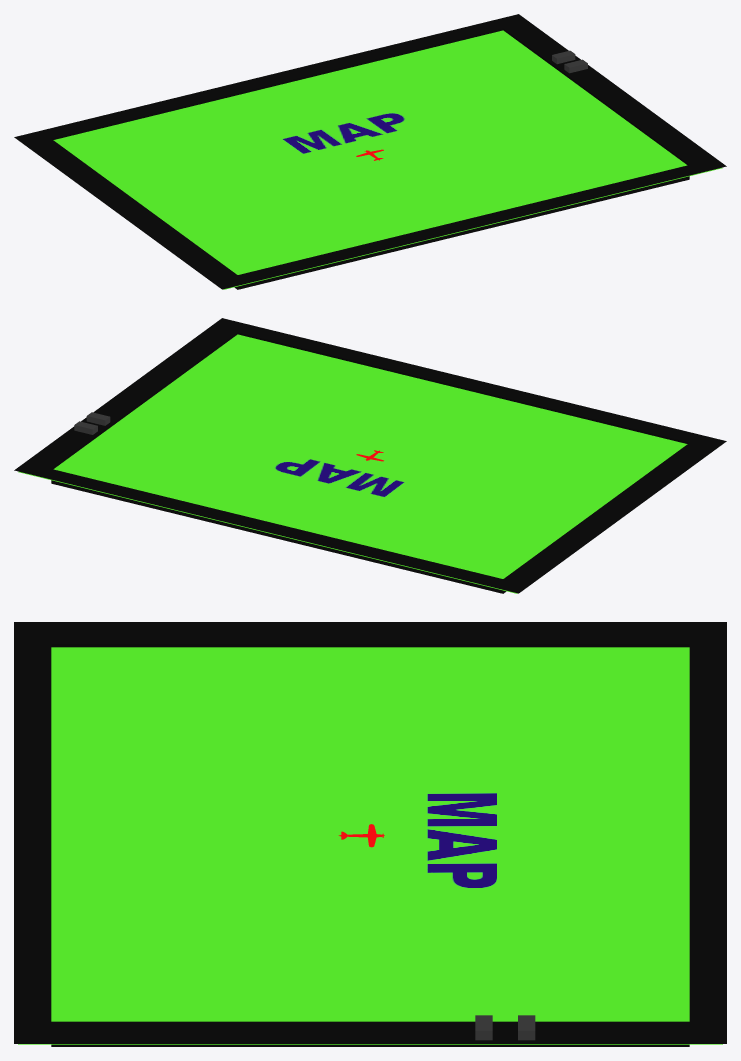
The model's file is display.glb.
3 renders of one model, top to bottom at view 1: azimuth 30°, elevation 25°; view 2: azimuth 150°, elevation 25°; view 3: azimuth 270°, elevation 25°, orthographic. The views are drawn at different scales.
Visible parts, largest first — view 1: Plane, Frame; view 2: Plane, Frame; view 3: Plane, Frame.
Boxes of the visible parts, <box> form: Plane: <box>53,30,722,289</box>; Frame: <box>14,14,726,289</box>; Plane: <box>18,334,687,593</box>; Frame: <box>14,318,726,593</box>; Plane: <box>18,647,722,1044</box>; Frame: <box>14,622,726,1046</box>.
Size of the model in its own units: 0.2832 by 0.0109 by 0.2023.
5 materials, 1 textured.
